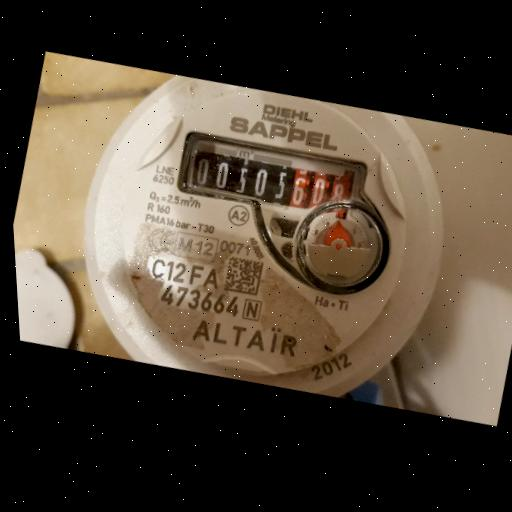0: (245, 160, 277, 202), (305, 170, 334, 213), (208, 153, 237, 193), (190, 150, 218, 190)
5: (225, 156, 255, 199), (265, 164, 295, 207)
6: (286, 166, 314, 209)
8: (326, 166, 358, 207)
border_water_meter_number: (176, 120, 372, 234)
